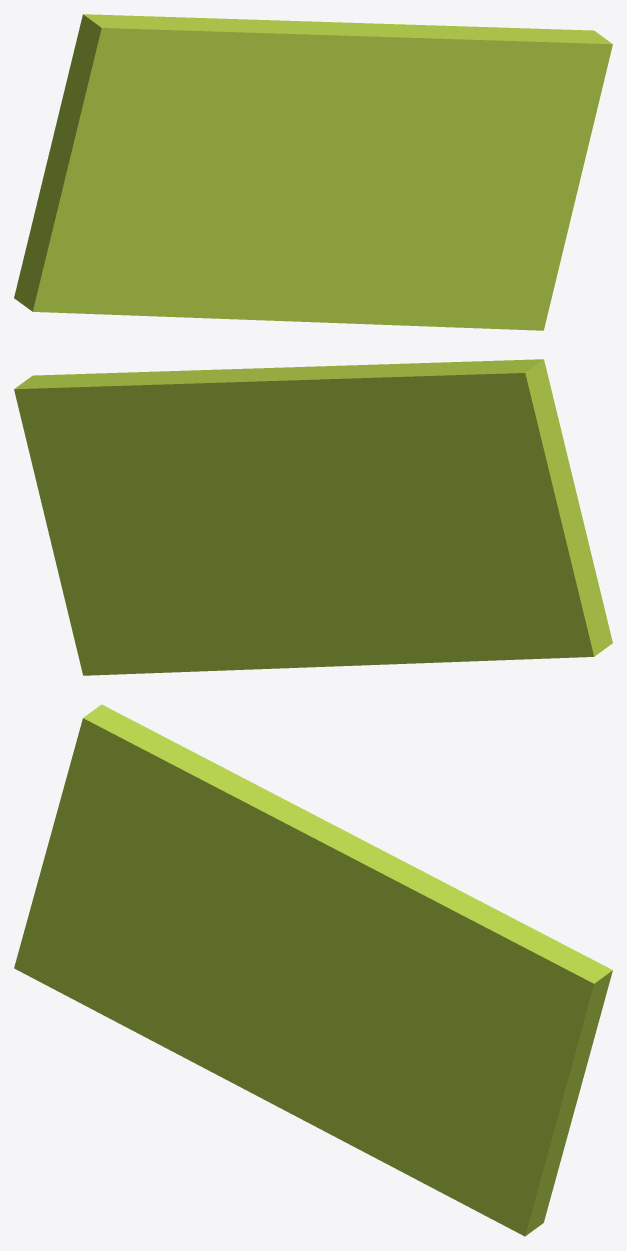
3 views of the same model, one above another, from view 1: azimuth 30°, elevation 25°; view 2: azimuth 150°, elevation 25°; view 3: azimuth 330°, elevation 25° (orthographic).
Parts seen in each view (by area): view 1: osm-way27917482-F1; view 2: osm-way27917482-F1; view 3: osm-way27917482-F1.
Part boxes in pixels (x1,y1,x2,y2): osm-way27917482-F1: (14,14,612,330); osm-way27917482-F1: (14,359,612,675); osm-way27917482-F1: (14,704,612,1236).
Size of the model in its own units: 2.68 by 1.81 by 0.15.
